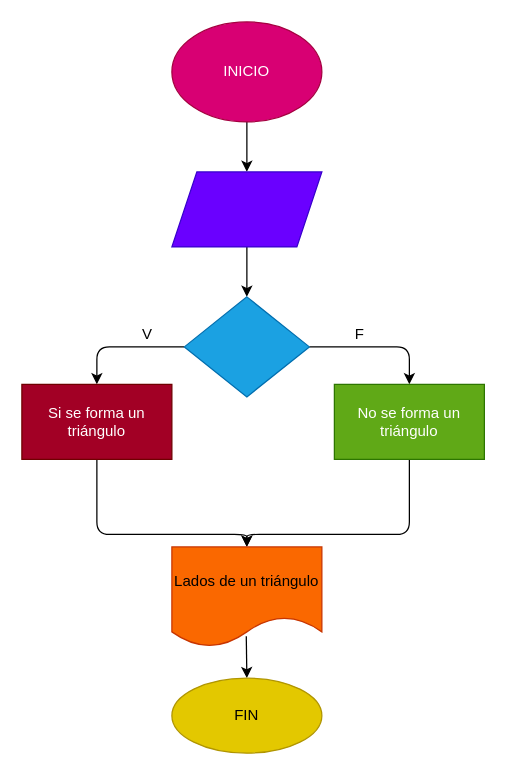
This 506x775 diagram has some shape labels left out. Each missing label, with the centre of its shape:
"A + B >C B + C > A A + C > B" goes at pixel 246 346.
"A, B, C" goes at pixel 246 209.
